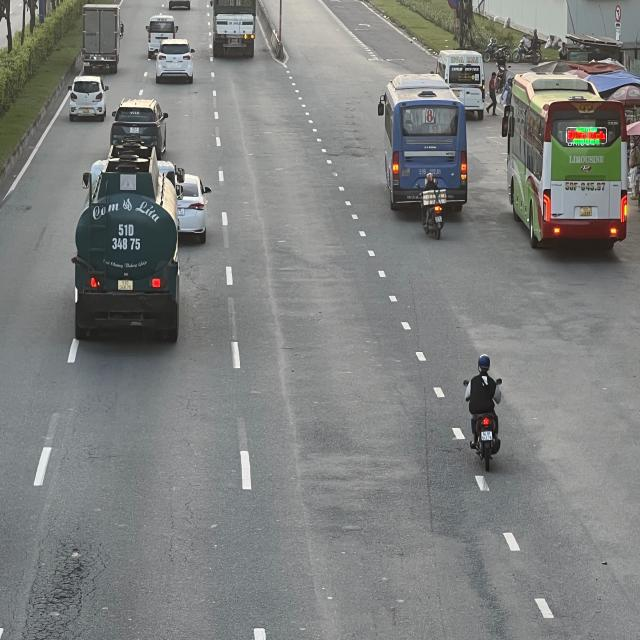car: (110, 95, 168, 154), (176, 171, 212, 243), (157, 39, 199, 84), (70, 77, 110, 122)
coach: (503, 73, 634, 250)
container: (76, 142, 184, 340)
truck: (380, 75, 468, 215), (81, 0, 123, 72), (210, 0, 256, 55)
van: (438, 49, 487, 121), (147, 16, 180, 58)
